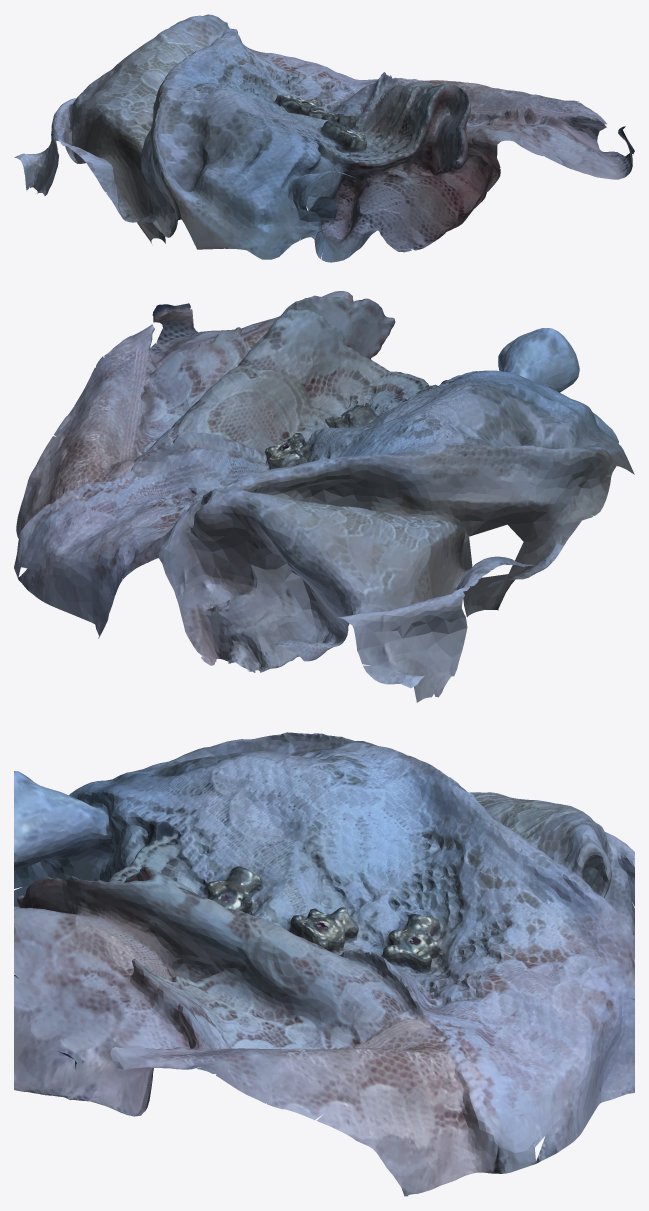
The picture shows the model from 3 angles, top to bottom: view 1: azimuth 30°, elevation 25°; view 2: azimuth 150°, elevation 25°; view 3: azimuth 270°, elevation 25°; orthographic projection. The views are drawn at different scales.
Parts seen in each view (by area): view 1: Mesh_0.004; view 2: Mesh_0.004; view 3: Mesh_0.004.
Part boxes in pixels (bbox=[...]): Mesh_0.004: bbox=[14, 14, 634, 262]; Mesh_0.004: bbox=[14, 291, 634, 702]; Mesh_0.004: bbox=[14, 732, 634, 1196].
Bounding box in the file's own units: 0.168 × 0.0597 × 0.152.
Materials: 1 (1 with a texture image).
